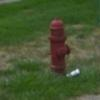a fire hydrant: (49, 19, 71, 73)
